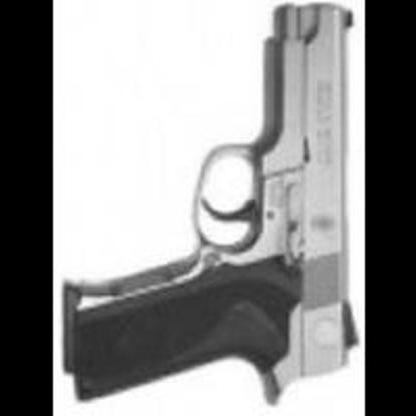weapon: (60, 0, 366, 406)
